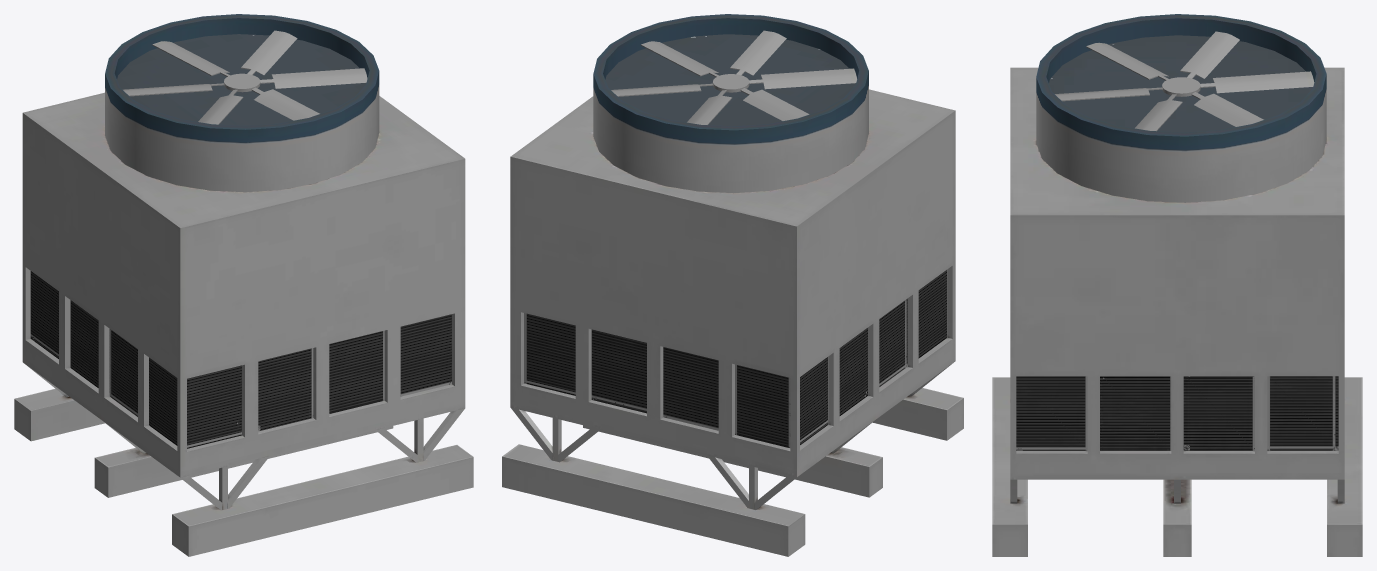
The model's file is cooling-tower-v1.glb.
3 renders of one model, left to right at view 1: azimuth 30°, elevation 25°; view 2: azimuth 150°, elevation 25°; view 3: azimuth 270°, elevation 25°, orthographic. The views are drawn at different scales.
Visible parts, largest first — view 1: 网格.001, 网格; view 2: 网格.001, 网格; view 3: 网格.001, 网格.
Boxes of the visible parts, x1,y1,x2,y2 form: 网格.001: [14, 14, 473, 556]; 网格: [123, 30, 367, 124]; 网格.001: [502, 14, 963, 556]; 网格: [611, 30, 856, 124]; 网格.001: [992, 14, 1362, 556]; 网格: [1055, 31, 1314, 131].
Bounding box in the file's own units: 0.836 × 1.08 × 0.8873.
1 material, 1 textured.
